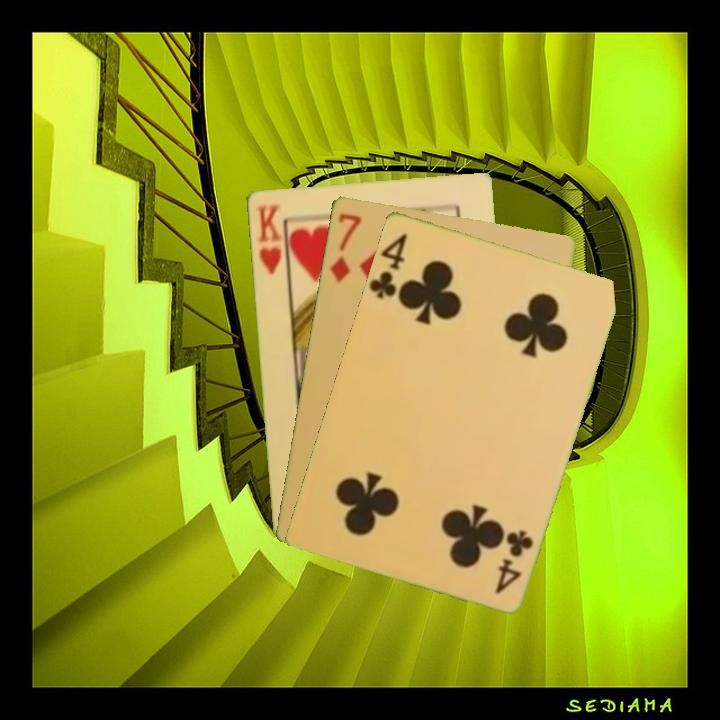4c: (366, 229, 410, 301), (491, 526, 536, 596)
7d: (326, 209, 364, 285)
Kh: (252, 201, 290, 281)
